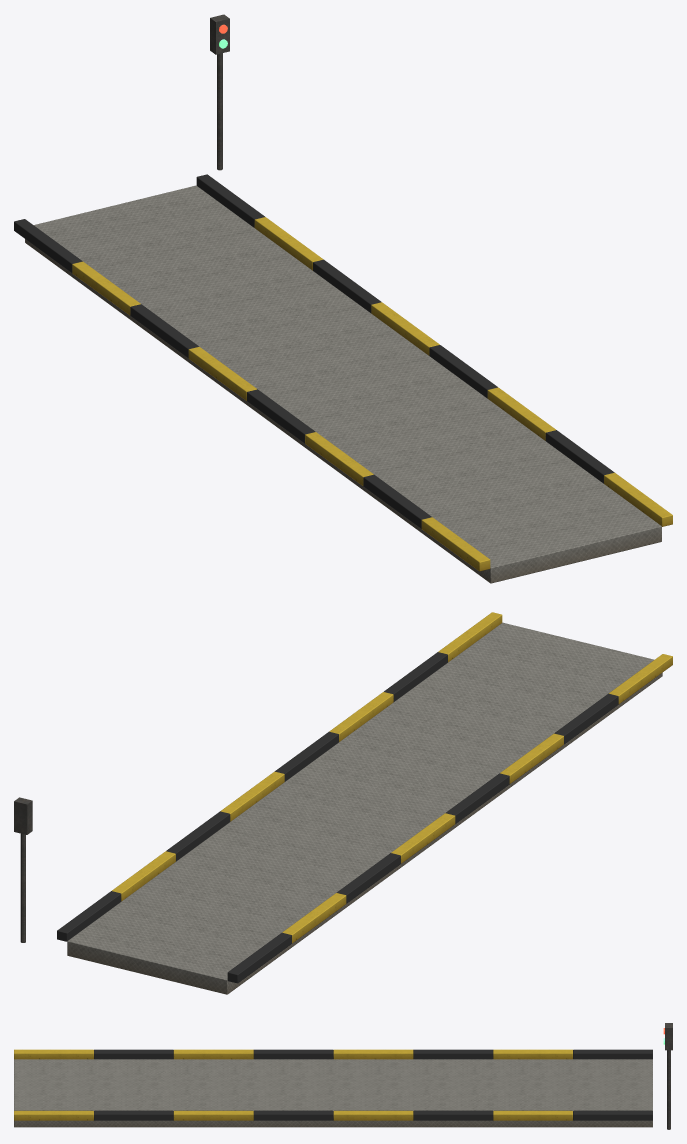
Rendered from prop_weighbridge.glb.
3 views of the same model, one above another, from view 1: azimuth 30°, elevation 25°; view 2: azimuth 150°, elevation 25°; view 3: azimuth 270°, elevation 25° (orthographic). The views are drawn at different scales.
Parts seen in each view (by area): view 1: Deck, KerbYellow, KerbBlack, LightPole; view 2: Deck, KerbBlack, KerbYellow, LightPole; view 3: Deck, KerbBlack, KerbYellow, LightPole.
Part boxes in pixels (bbox=[...]): Deck: bbox=[25, 185, 661, 583]; KerbYellow: bbox=[72, 217, 672, 571]; KerbBlack: bbox=[14, 174, 614, 528]; LightPole: bbox=[210, 14, 229, 170]; Deck: bbox=[67, 622, 662, 994]; KerbBlack: bbox=[57, 652, 618, 983]; KerbYellow: bbox=[112, 612, 672, 943]; LightPole: bbox=[14, 797, 32, 942]; Deck: bbox=[14, 1059, 652, 1127]; KerbBlack: bbox=[94, 1049, 652, 1120]; KerbYellow: bbox=[14, 1049, 572, 1120]; LightPole: bbox=[665, 1023, 672, 1129].
Size of the model in its own units: 4.46 by 3.14 by 16.5.
6 materials, 3 textured.
